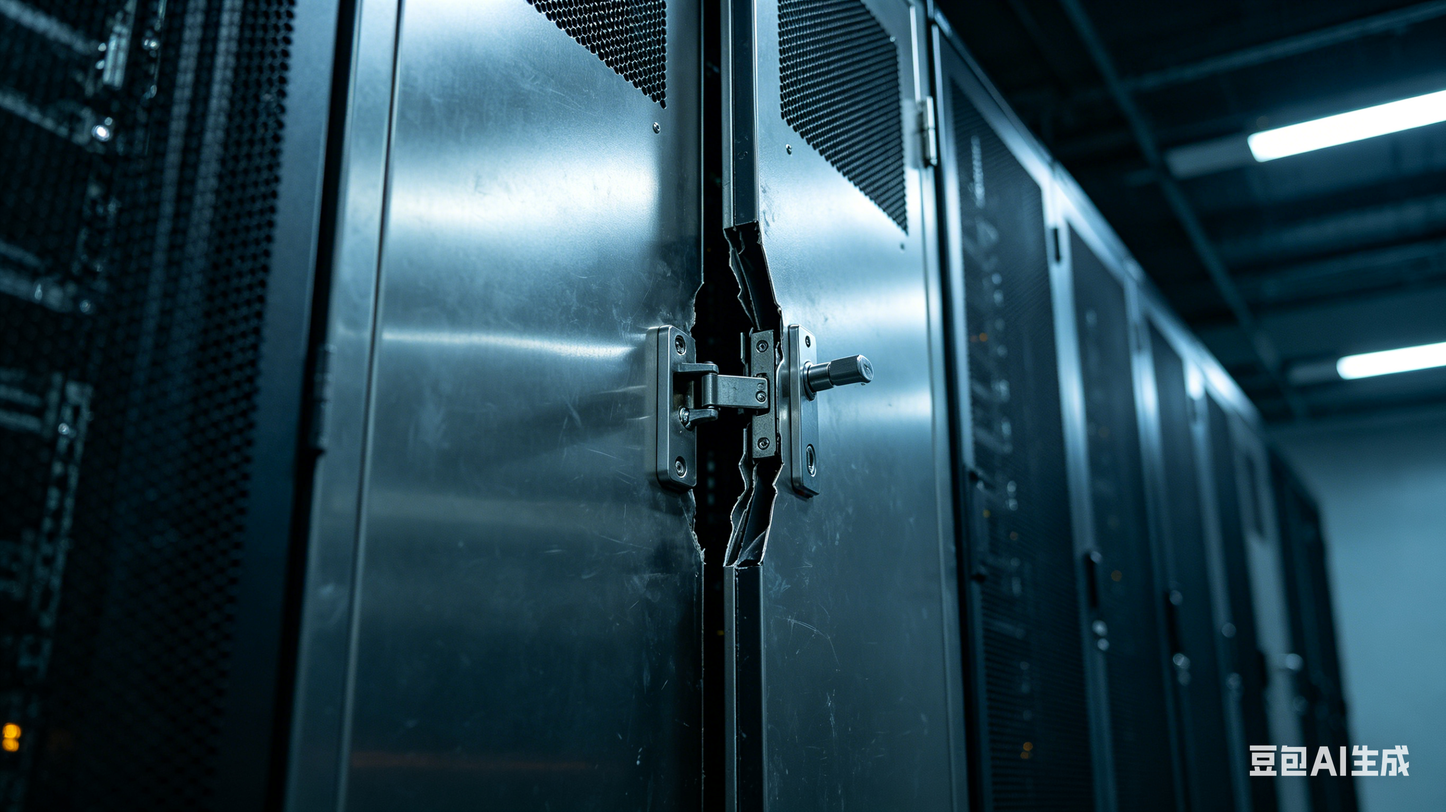BadLock: (675, 232, 793, 572)
